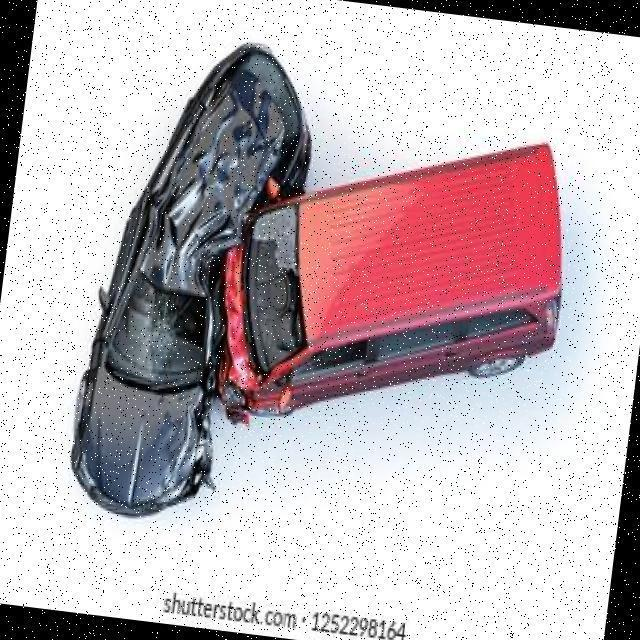accident: (72, 34, 555, 520)
